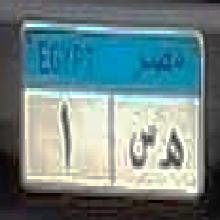1: (58, 98, 78, 173)
haa: (157, 122, 186, 181)
seen: (128, 121, 156, 179)
